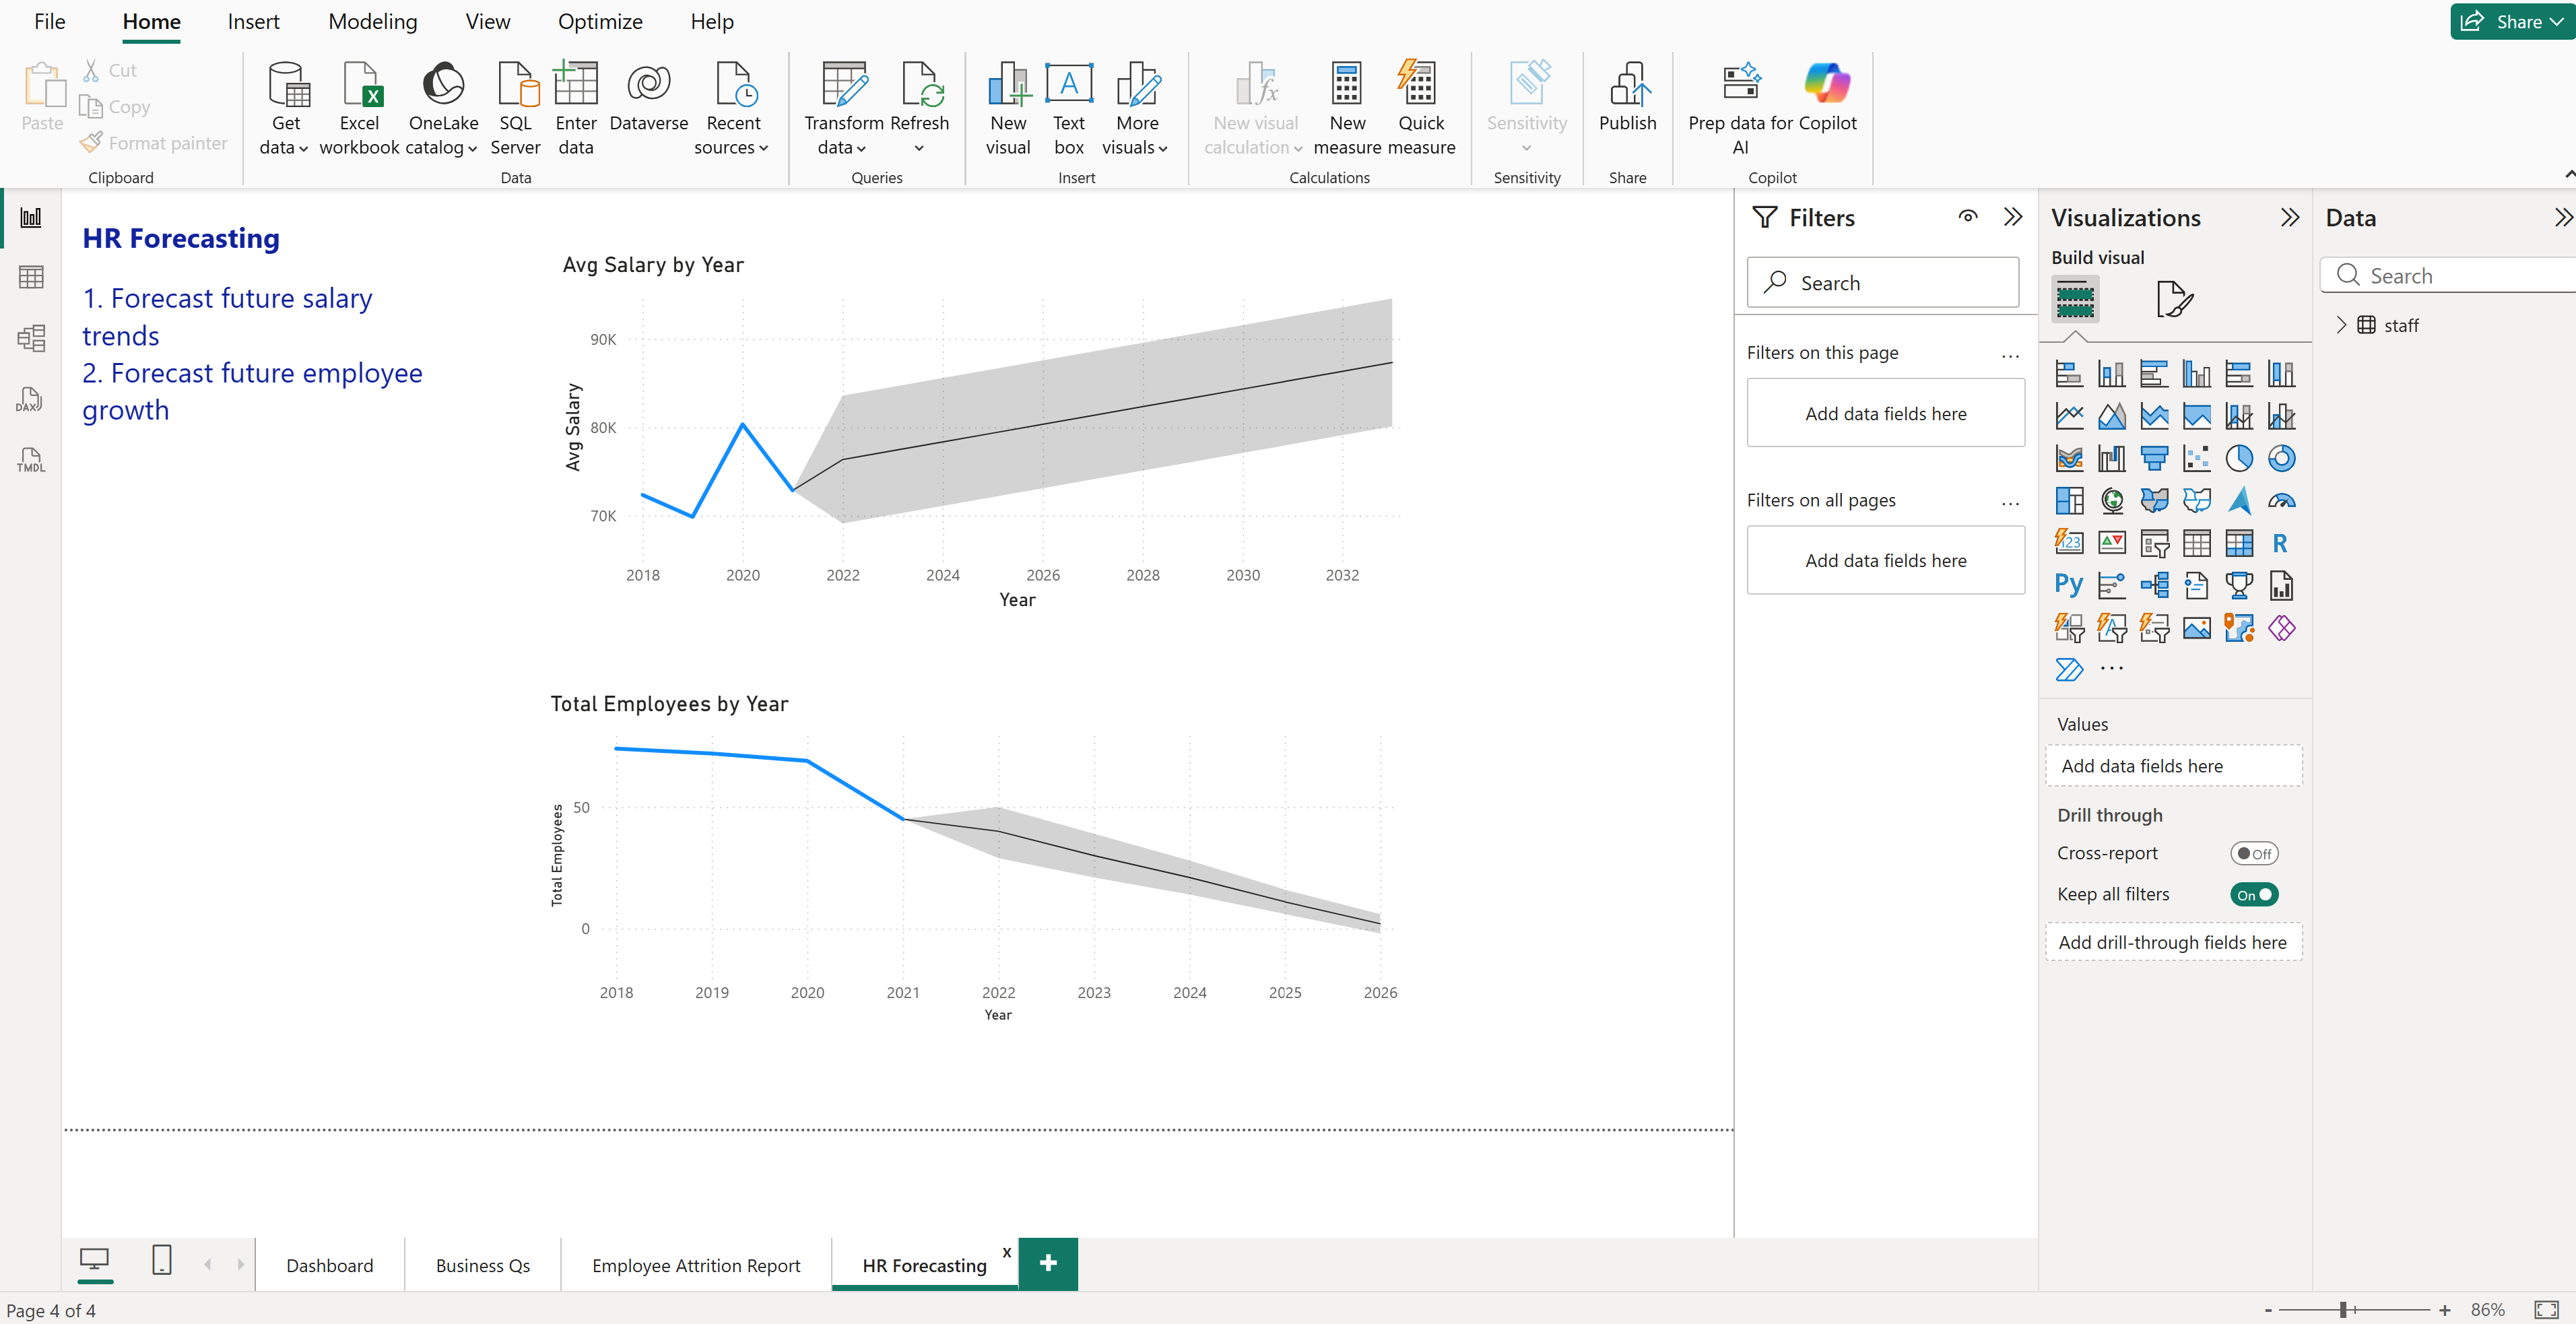

What the dashboard file says about the page in this screenshot:
{"tool":"powerbi","page":{"name":"HR Forecasting","canvas":[1280,720],"ordinal":3},"visuals":[{"type":"textbox","box":[10,0,280,280],"z":0},{"type":"lineChart","fields":{"Category":["staff.Start Date.Variation.Date Hierarchy.Year","staff.Start Date.Variation.Date Hierarchy.Quarter","staff.Start Date.Variation.Date Hierarchy.Month","staff.Start Date.Variation.Date Hierarchy.Day"],"Y":["staff.Avg Salary"]},"box":[378.1,48.7,658.8,279.5],"z":1000},{"type":"lineChart","fields":{"Category":["staff.Start Date.Variation.Date Hierarchy.Year","staff.Start Date.Variation.Date Hierarchy.Quarter","staff.Start Date.Variation.Date Hierarchy.Month","staff.Start Date.Variation.Date Hierarchy.Day"],"Y":["staff.Total Employees"]},"box":[368.8,385.1,658.8,258.7],"z":2000}]}

Visuals, with their boxes on the page's 1280x720 design canvas (x1, y1, x2, y2). These are canvas units, not pixel positions in the 2576x1324 screenshot, which may show the page scaled, cropped or inside an application window:
textbox: [left=10, top=0, right=290, bottom=280]
lineChart - staff.Start Date.Variation.Date Hierarchy.Year x staff.Start Date.Variation.Date Hierarchy.Quarter: [left=378, top=49, right=1037, bottom=328]
lineChart - staff.Start Date.Variation.Date Hierarchy.Year x staff.Start Date.Variation.Date Hierarchy.Quarter: [left=369, top=385, right=1028, bottom=644]
